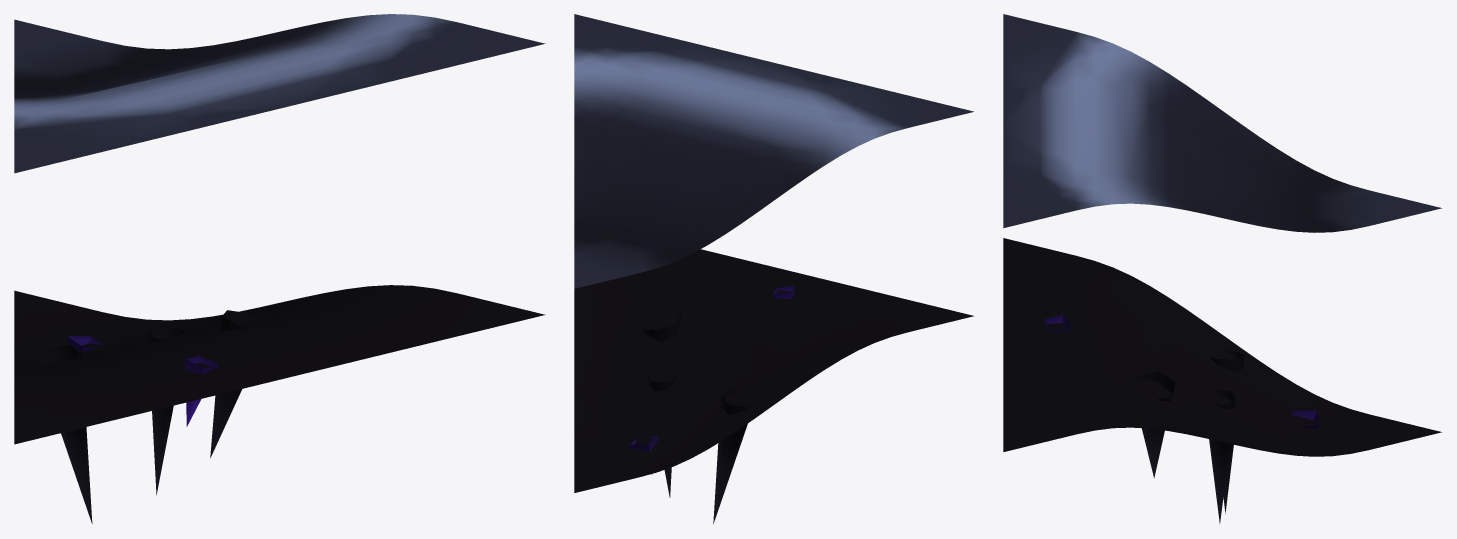
Rendered from MODULE_HOLLOW_RAMP_SIDE.fbx.
The picture shows the model from 3 angles, left to right: view 1: azimuth 30°, elevation 25°; view 2: azimuth 150°, elevation 25°; view 3: azimuth 270°, elevation 25°; orthographic projection. The views are drawn at different scales.
Visible parts, largest first — view 1: MODULE_HOLLOW_RAMP_SIDE__export, MODULE_HOLLOW_RAMP_SIDE_DECOR__export; view 2: MODULE_HOLLOW_RAMP_SIDE__export, MODULE_HOLLOW_RAMP_SIDE_DECOR__export; view 3: MODULE_HOLLOW_RAMP_SIDE__export, MODULE_HOLLOW_RAMP_SIDE_DECOR__export.
Part boxes in pixels (bbox=[...]): MODULE_HOLLOW_RAMP_SIDE__export: bbox=[14, 14, 545, 444]; MODULE_HOLLOW_RAMP_SIDE_DECOR__export: bbox=[36, 310, 265, 523]; MODULE_HOLLOW_RAMP_SIDE__export: bbox=[574, 14, 973, 492]; MODULE_HOLLOW_RAMP_SIDE_DECOR__export: bbox=[629, 285, 794, 523]; MODULE_HOLLOW_RAMP_SIDE__export: bbox=[1003, 14, 1441, 456]; MODULE_HOLLOW_RAMP_SIDE_DECOR__export: bbox=[1044, 314, 1318, 523].
Bounding box in the file's own units: 100 × 90.21 × 86.6.
